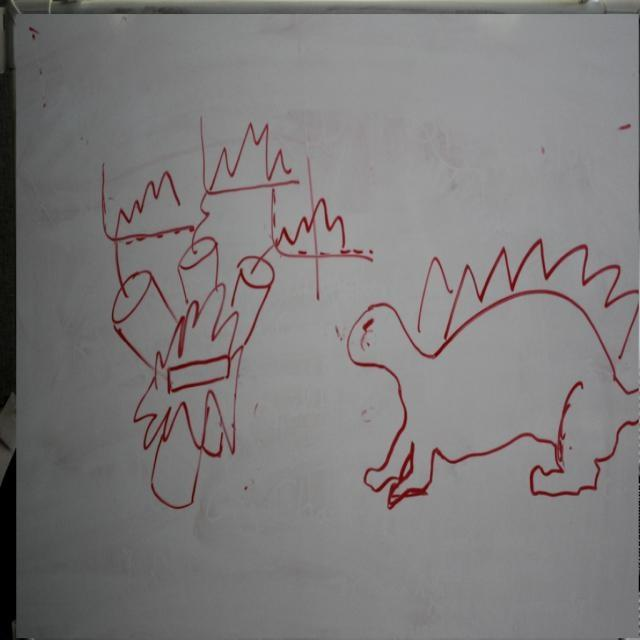Whiteboard: (3, 2, 639, 639)
